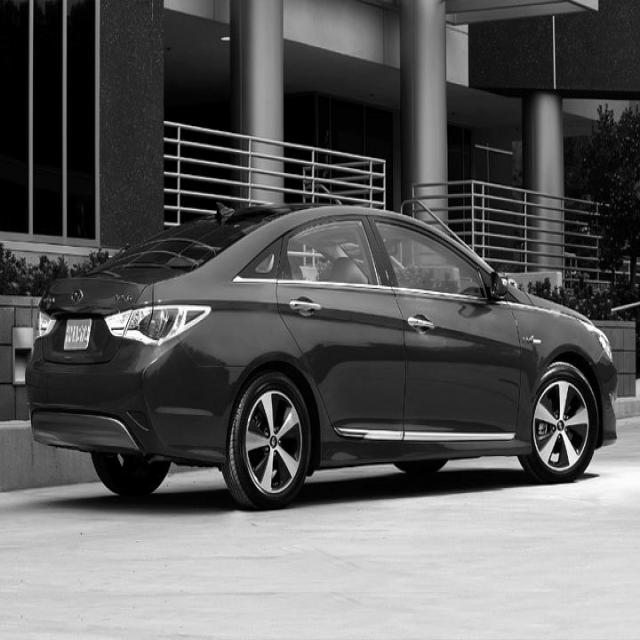car: (25, 200, 619, 510)
plat_license: (62, 316, 92, 351)
